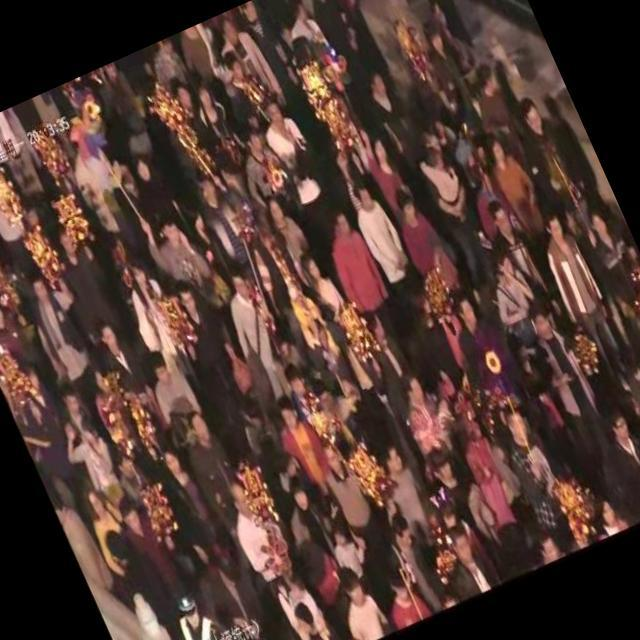person: (524, 202, 640, 391), (408, 126, 508, 296), (520, 295, 624, 456), (55, 112, 160, 266), (5, 240, 106, 396), (156, 272, 254, 429), (446, 398, 544, 554), (209, 255, 305, 398), (492, 400, 582, 539), (577, 201, 640, 395), (502, 85, 596, 212), (346, 178, 432, 314), (180, 64, 264, 202), (312, 197, 400, 326), (306, 431, 396, 554), (3, 359, 88, 484), (90, 55, 175, 178), (111, 483, 192, 606), (221, 474, 304, 594), (41, 208, 125, 326), (238, 0, 317, 123), (502, 326, 578, 452), (154, 70, 230, 188), (215, 6, 294, 118), (477, 122, 552, 236), (174, 406, 250, 517), (225, 111, 302, 220), (387, 358, 469, 460), (73, 470, 147, 580), (149, 439, 221, 544), (268, 391, 338, 496), (136, 336, 208, 434), (124, 145, 196, 238), (0, 139, 48, 277), (298, 0, 372, 89), (430, 518, 503, 608), (156, 578, 260, 640), (0, 104, 58, 215), (61, 404, 129, 498), (422, 432, 490, 526), (321, 555, 396, 640), (382, 182, 452, 273), (365, 435, 435, 526), (474, 242, 546, 330), (408, 13, 476, 102), (413, 138, 482, 225), (440, 292, 508, 379), (210, 41, 278, 126), (593, 407, 640, 528), (250, 90, 316, 175), (596, 408, 640, 527), (374, 559, 442, 634), (78, 353, 134, 444), (276, 354, 336, 436), (354, 64, 414, 146), (275, 569, 343, 640), (394, 0, 480, 54), (90, 316, 148, 396), (294, 240, 349, 318), (0, 285, 43, 371), (282, 593, 354, 640), (612, 377, 640, 492), (362, 127, 409, 195), (274, 0, 327, 51)
